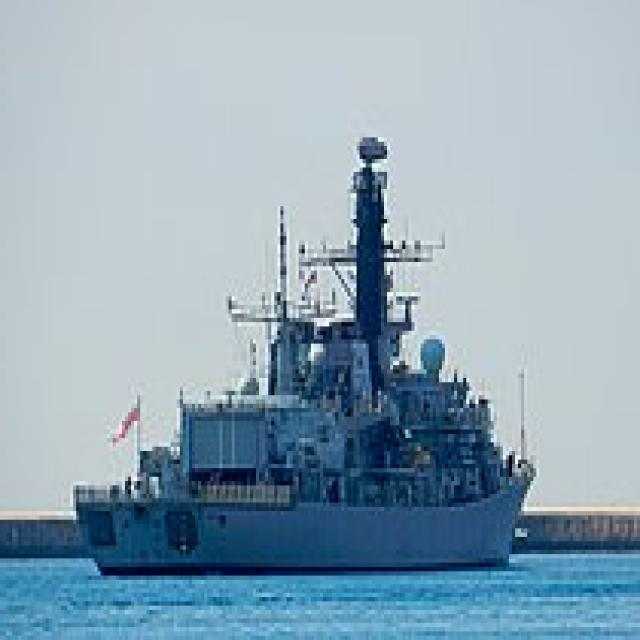Warship: (73, 124, 540, 576)
